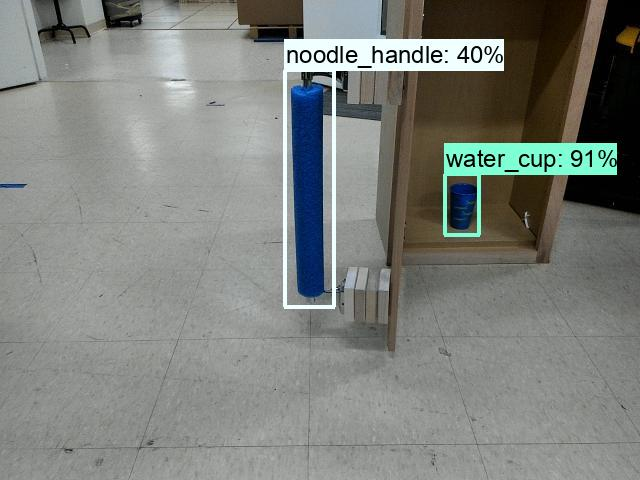noodle_handle: (281, 74, 338, 298)
water_cup: (446, 172, 477, 237)
